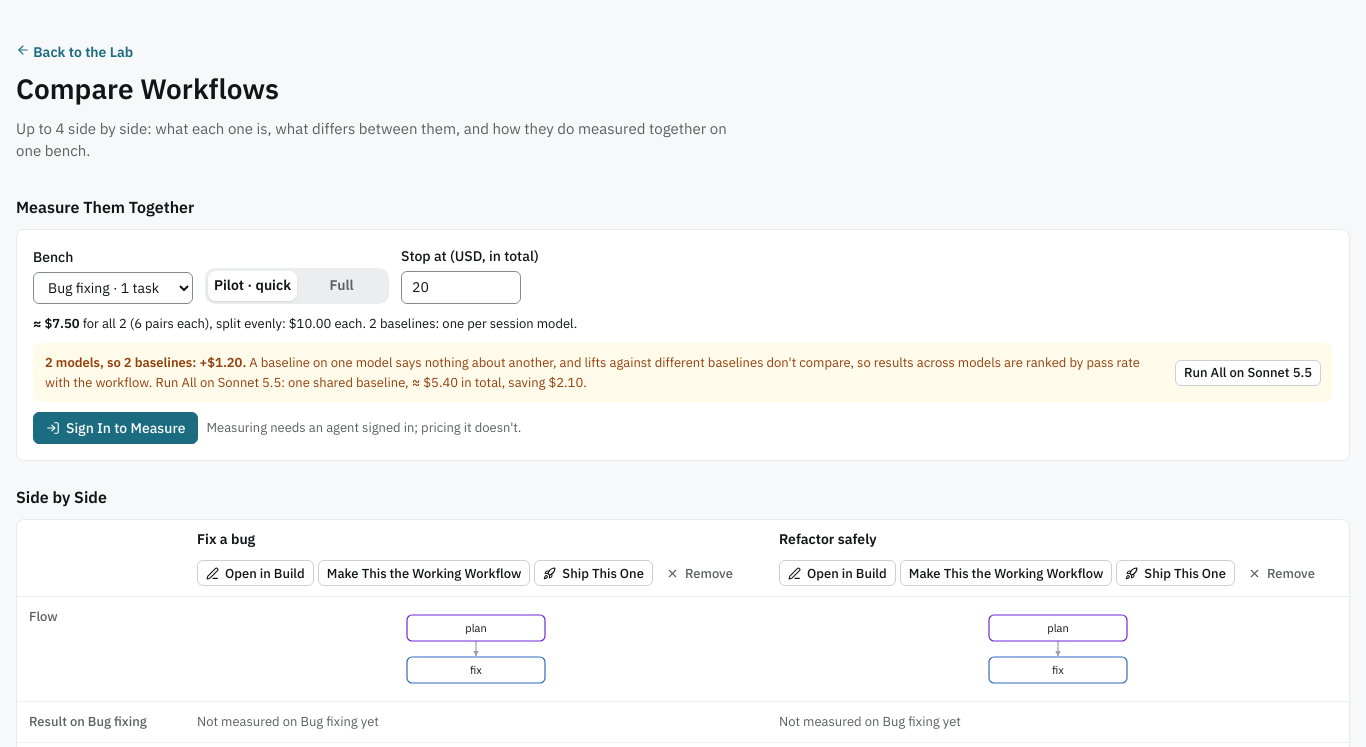
Test: Run All on <model> puts every pinned workflow on it, prices the set again, and can be undone
The width and height of the screenshot is (1366, 747).
Expected: the element with test id "compare-models" shows "2 models, so 2 baselines: +$1.20.", [45, 354, 246, 371]
Expected: the element with test id "compare-price" shows "2 baselines: one per session model.", [369, 315, 577, 332]
Step 1. Click the button "Run All on Sonnet 5.5" → point(1248, 373), box [1175, 360, 1321, 386]
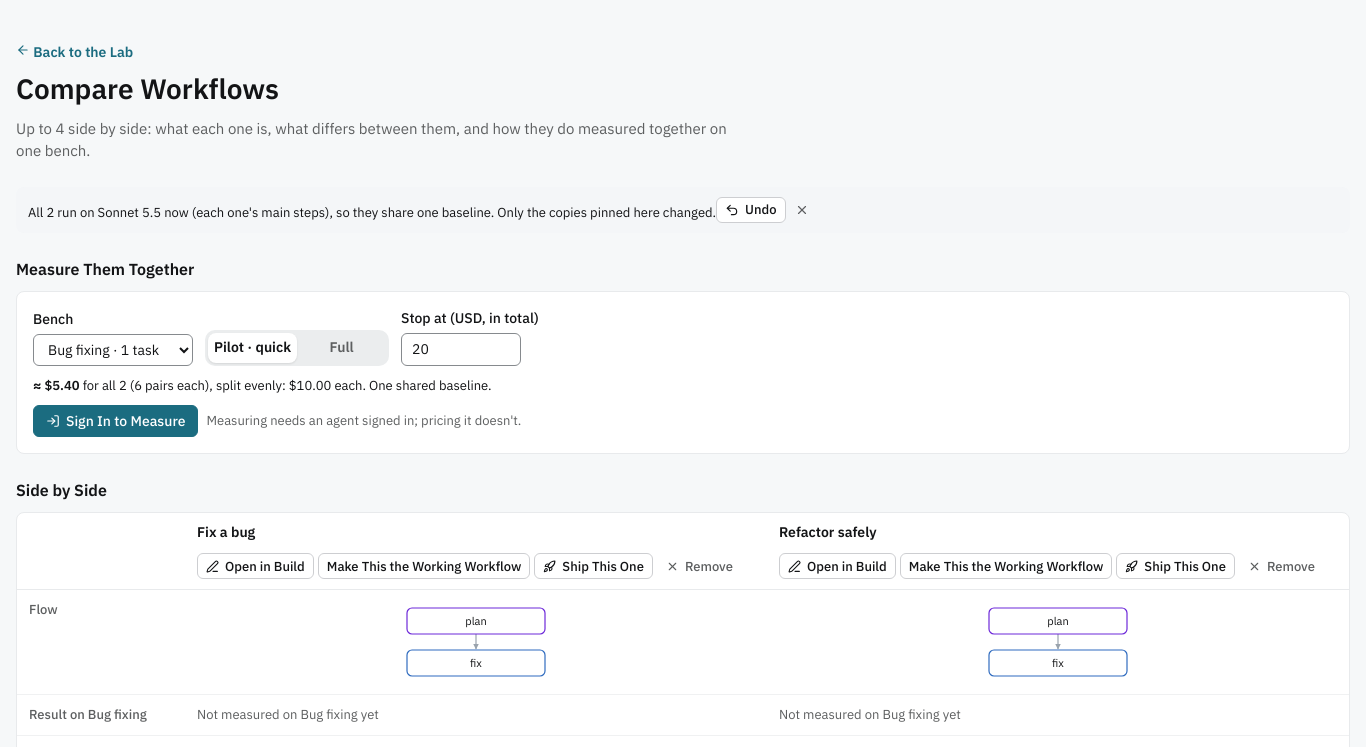
Expected: the message shows "All 2 run on Sonnet 5.5 now", [28, 204, 716, 221]
Expected: the element with test id "compare-price" shows "One shared baseline.", [369, 377, 491, 394]
Expected: the element with test id "compare-models" is gone
Step 2. Click the button "Undo" → point(751, 210), box [716, 197, 786, 223]
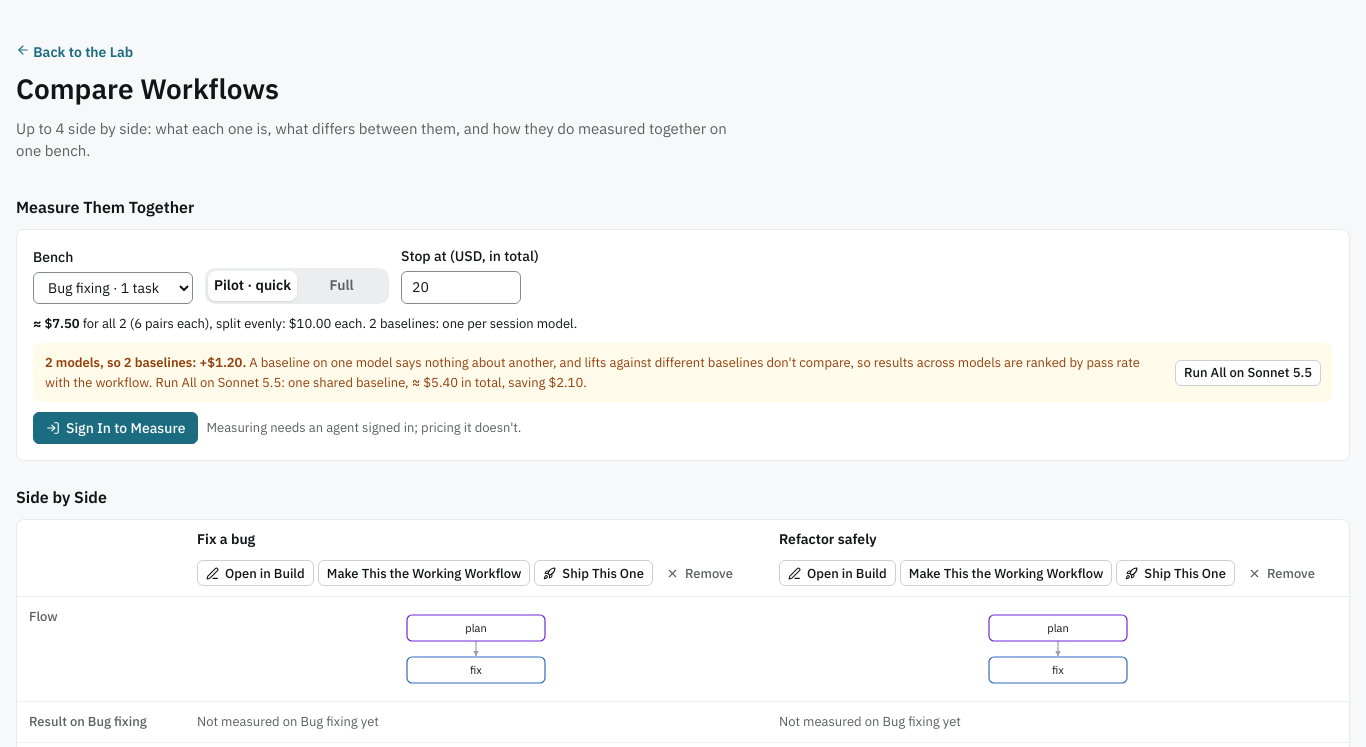
Expected: the element with test id "compare-models" is shown, [33, 343, 1333, 402]
